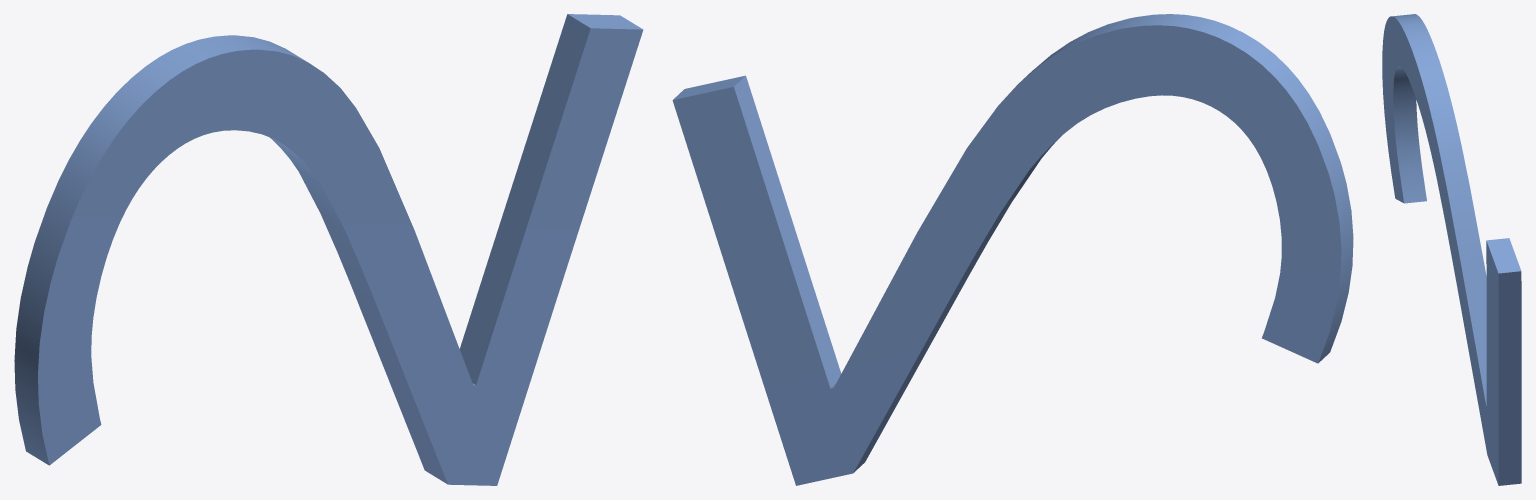
Rendered from New_Number_2.gltf.
3 views of the same model, side by side, from view 1: azimuth 30°, elevation 25°; view 2: azimuth 150°, elevation 25°; view 3: azimuth 270°, elevation 25° (orthographic). The views are drawn at different scales.
Parts seen in each view (by area): view 1: Part 119; view 2: Part 119; view 3: Part 119.
Part boxes in pixels (x1,y1,x2,y2): Part 119: (14,14,643,485); Part 119: (672,14,1353,485); Part 119: (1382,14,1521,485).
Size of the model in its own units: 0.00544 by 0.00427 by 0.00154.
